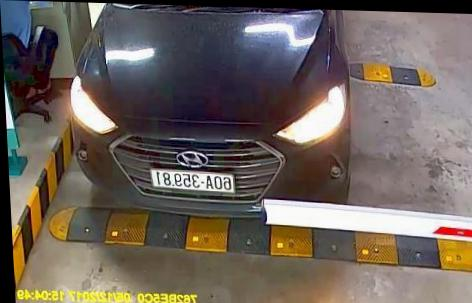License_Plate: (147, 162, 239, 200)
